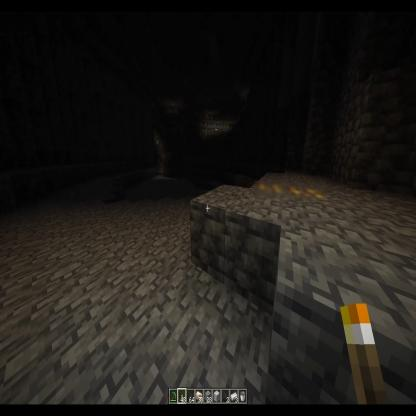gold ore: (284, 183, 326, 200), (255, 181, 286, 198)
